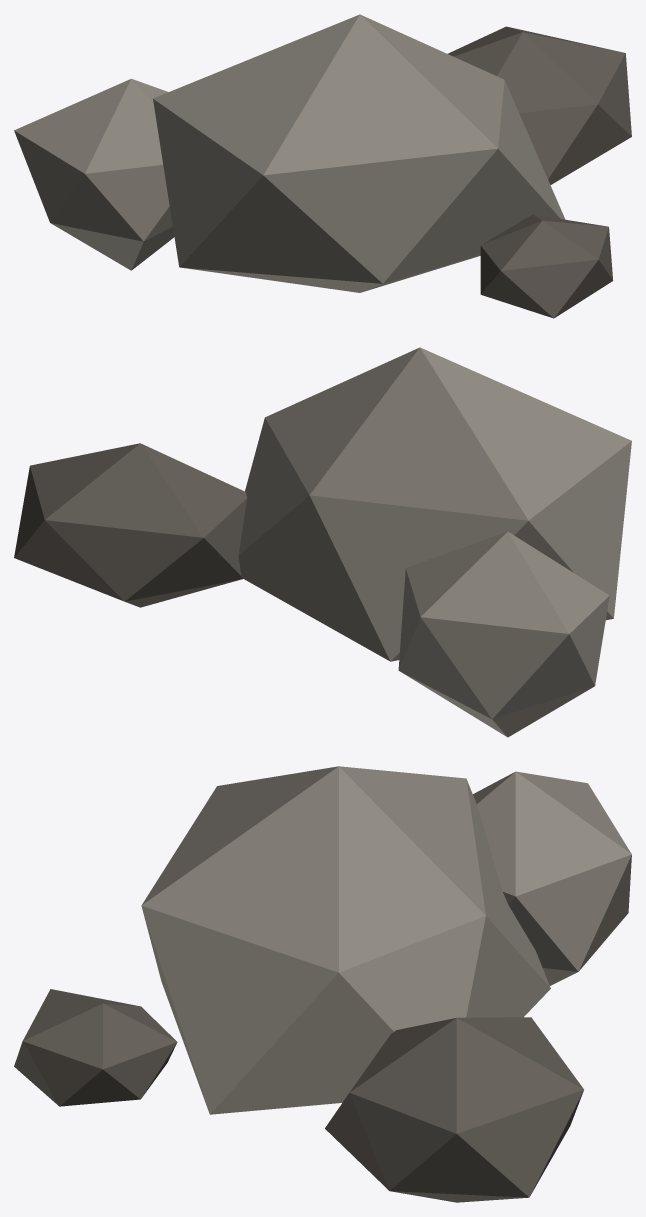
File: Scenery_Rocks.fbx
3 renders of one model, top to bottom at view 1: azimuth 30°, elevation 25°; view 2: azimuth 150°, elevation 25°; view 3: azimuth 270°, elevation 25°, orthographic. The views are drawn at different scales.
Visible parts, largest first — view 1: Scenery_Rocks; view 2: Scenery_Rocks; view 3: Scenery_Rocks.
Part boxes in pixels (x1,y1,x2,y2): Scenery_Rocks: (14,14,631,318); Scenery_Rocks: (14,347,631,737); Scenery_Rocks: (14,766,631,1202).
Bounding box in the file's own units: 3.95 × 1.89 × 3.14.
